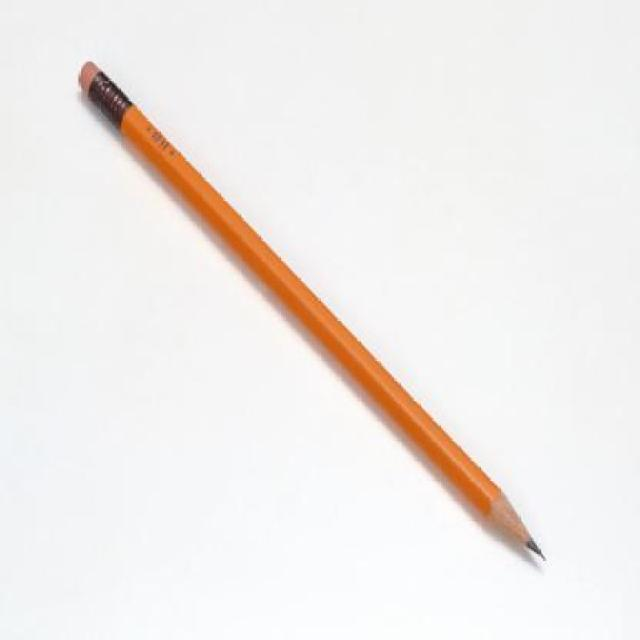pencil: (69, 45, 561, 581)
